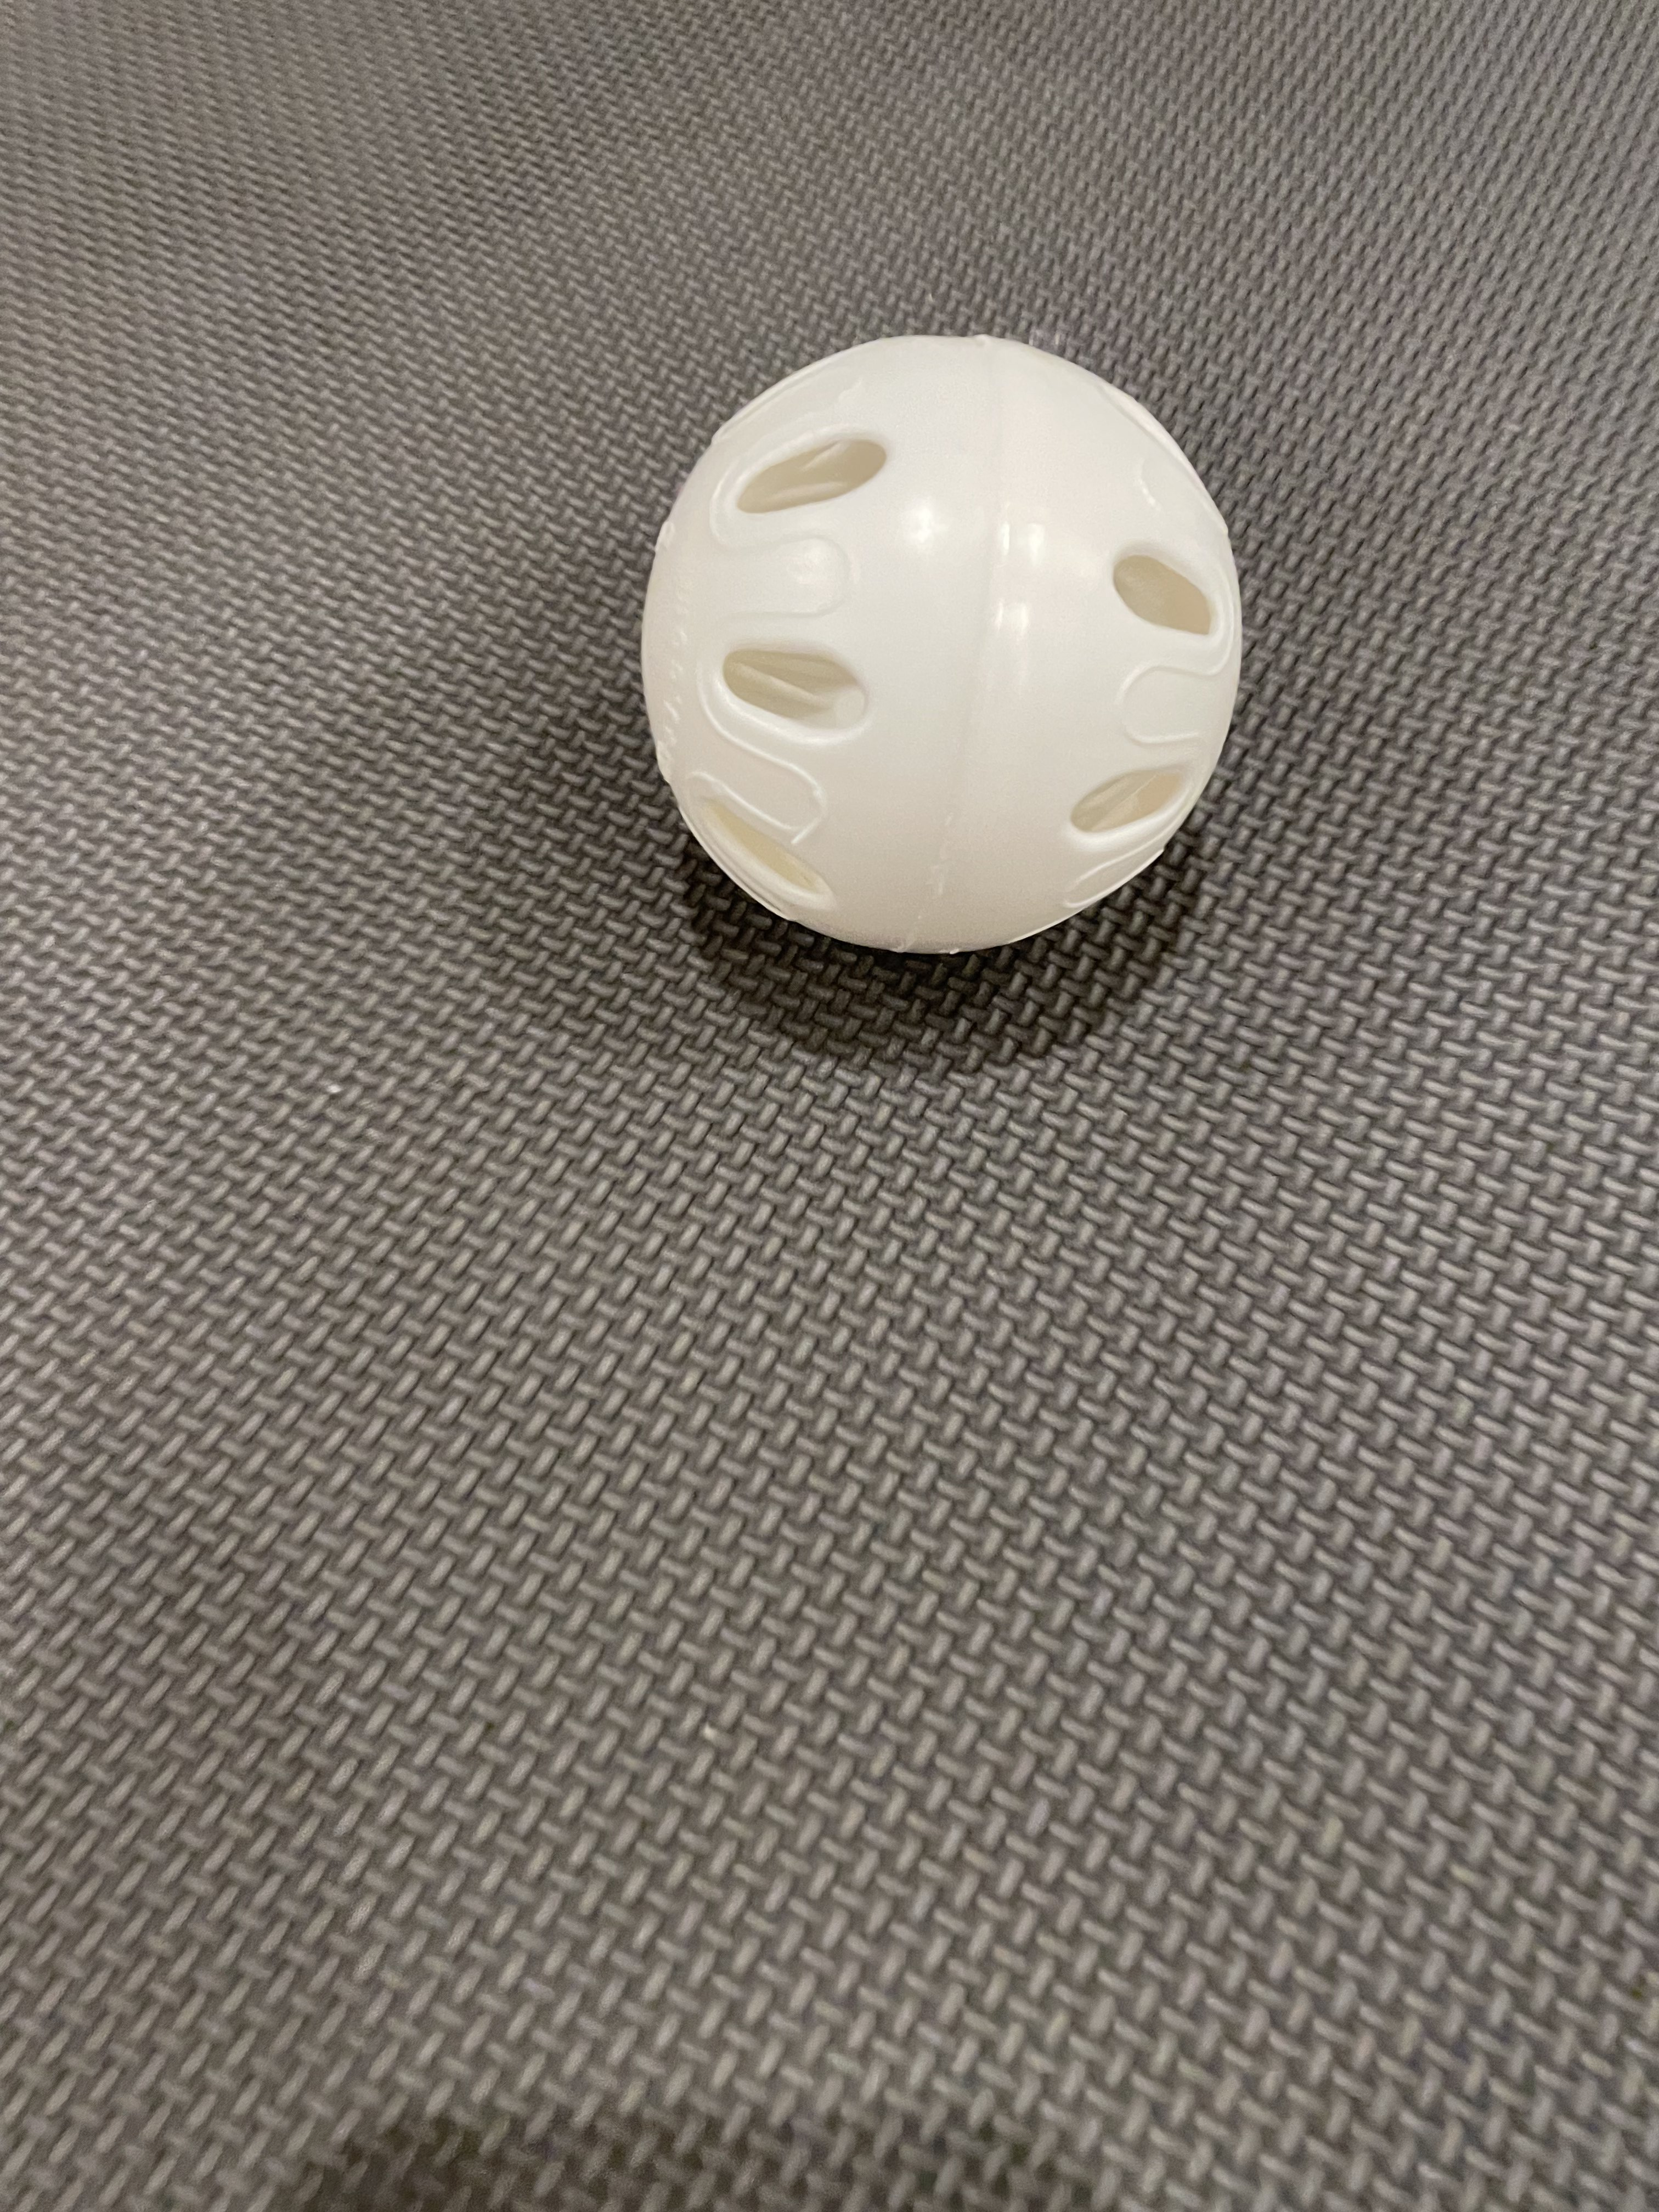ball: (587, 244, 1269, 1028)
